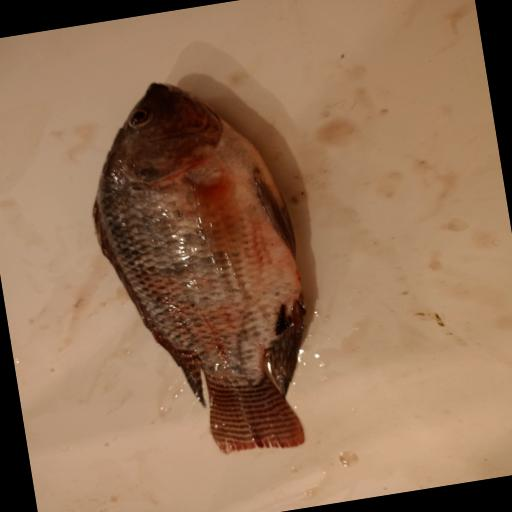Tilapia: (73, 63, 329, 471)
